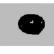correct: (16, 12, 47, 36)
